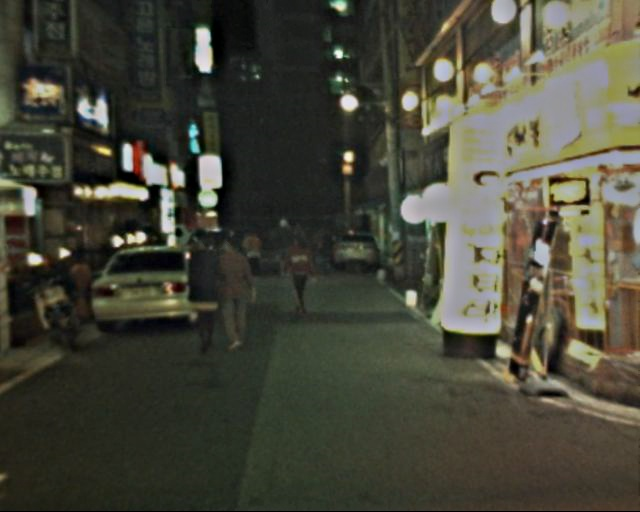person: (189, 226, 235, 359), (211, 227, 258, 353), (286, 225, 323, 315), (241, 229, 263, 280), (317, 230, 337, 281)
